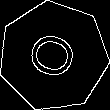O_E: (22, 28, 85, 85)
